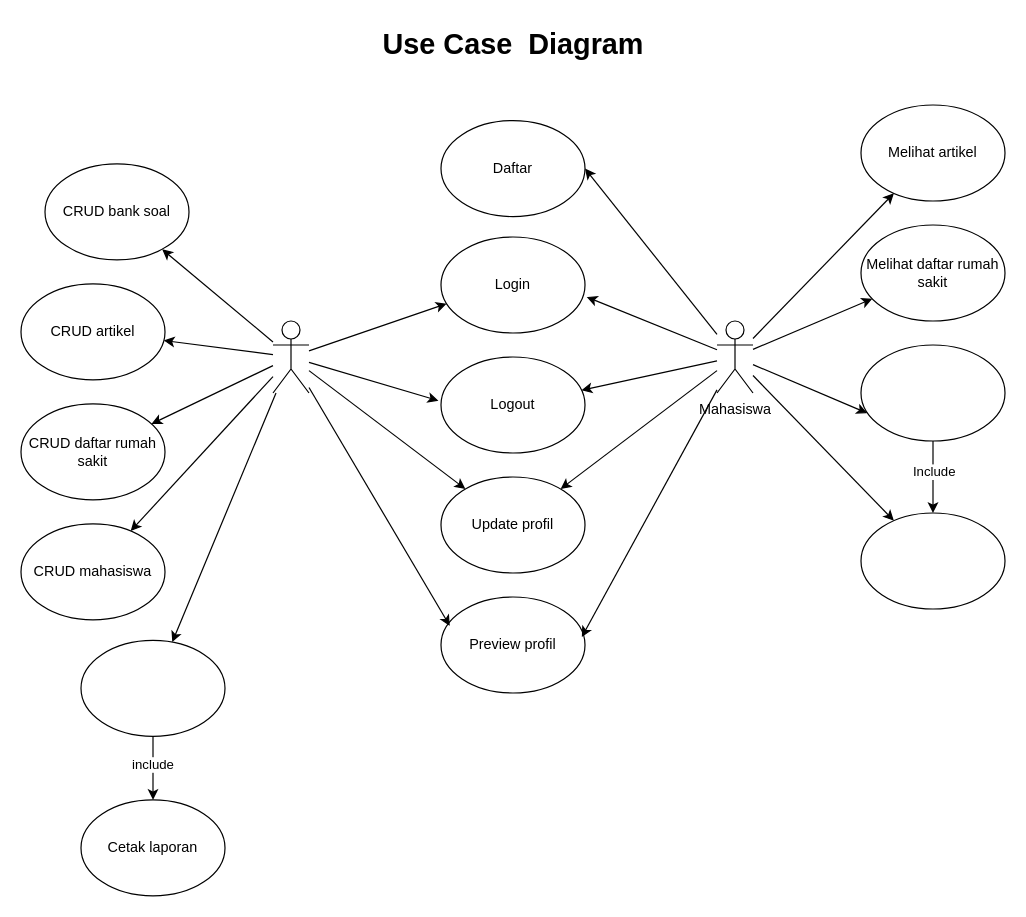
Image size: 1026x917. Some labels were removed from this diagram. Here are the shapes that lost their labels. From the top down, the centre of each, then its label:
[290,356]: Admin
[932,392]: Menjawab soal kuesioner
[932,560]: Hasil diagnosa
[152,687]: Laporan kuesioner
